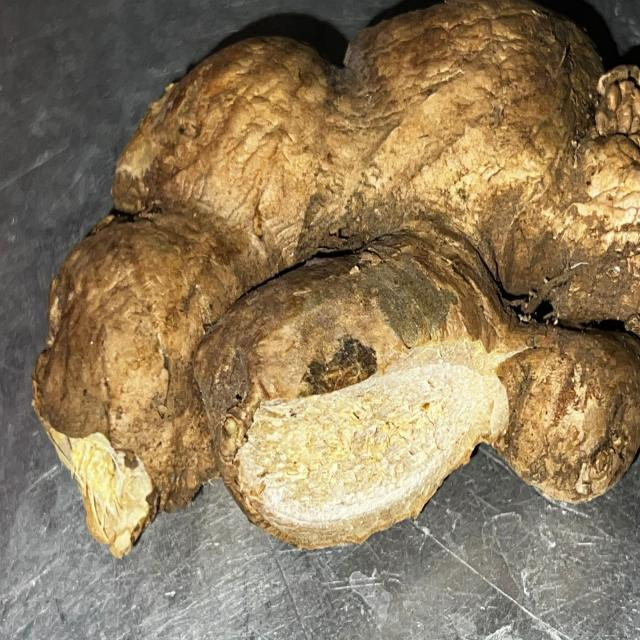ginger: (52, 51, 635, 537)
